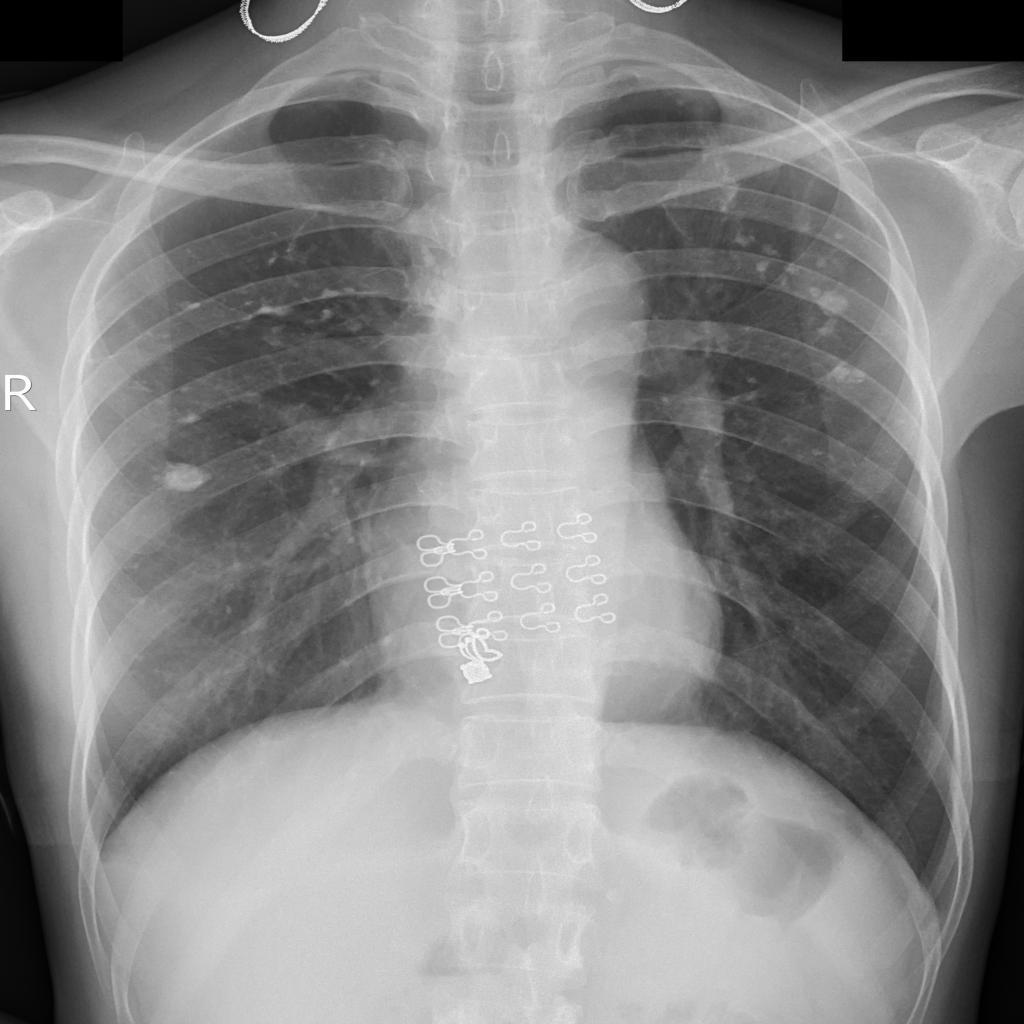Nodule: (161, 463, 202, 492), (818, 291, 846, 317)
